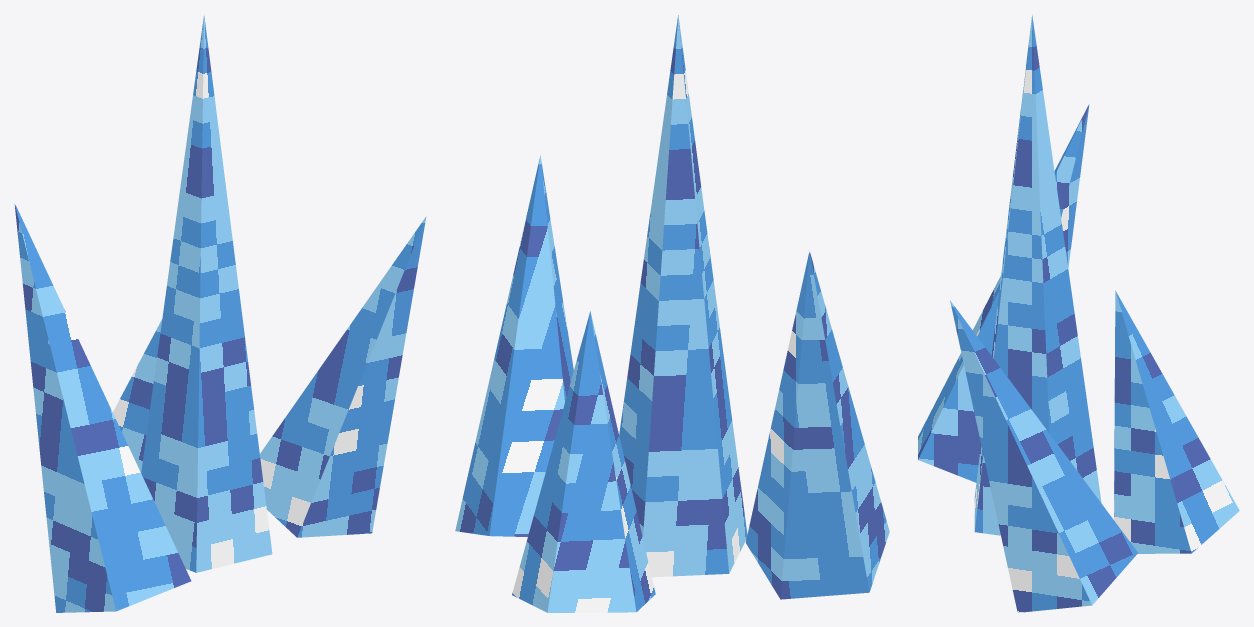
The model's file is a19_chao_de_cristal_negro.glb.
3 renders of one model, left to right at view 1: azimuth 30°, elevation 25°; view 2: azimuth 150°, elevation 25°; view 3: azimuth 270°, elevation 25°, orthographic. The views are drawn at different scales.
Parts seen in each view (by area): view 1: a19_chao_de_cristal_negro; view 2: a19_chao_de_cristal_negro; view 3: a19_chao_de_cristal_negro.
Boxes of the visible parts, x1,y1,x2,y2 form: a19_chao_de_cristal_negro: (14,14,426,612); a19_chao_de_cristal_negro: (455,15,889,612); a19_chao_de_cristal_negro: (918,14,1239,612).
Size of the model in its own units: 0.9887 by 1.47 by 0.8155.
Materials: 1 (1 with a texture image).
